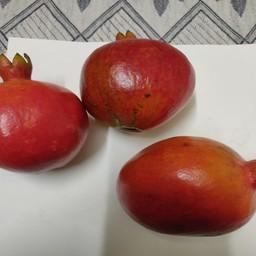pomegranate: (116, 136, 256, 236), (80, 30, 197, 134), (0, 52, 90, 173)
